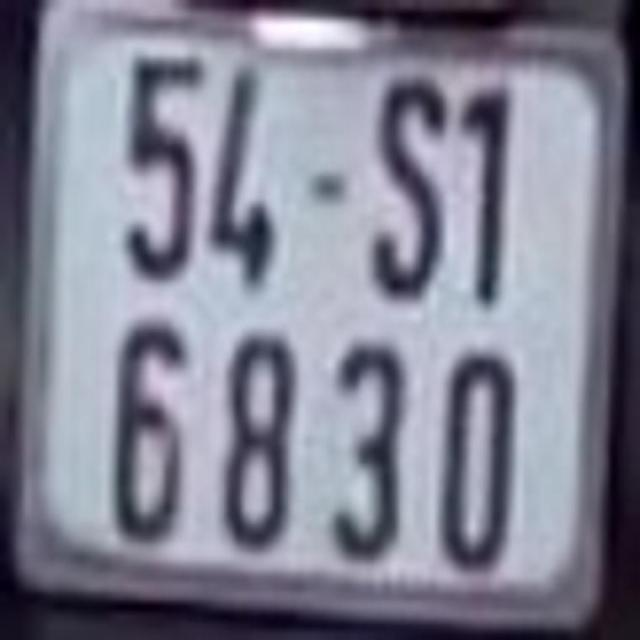0: (440, 347, 516, 567)
1: (460, 80, 514, 299)
3: (337, 337, 401, 561)
4: (212, 67, 277, 290)
5: (127, 47, 200, 282)
6: (107, 315, 184, 544)
8: (224, 324, 288, 543)
S: (371, 74, 448, 303)
